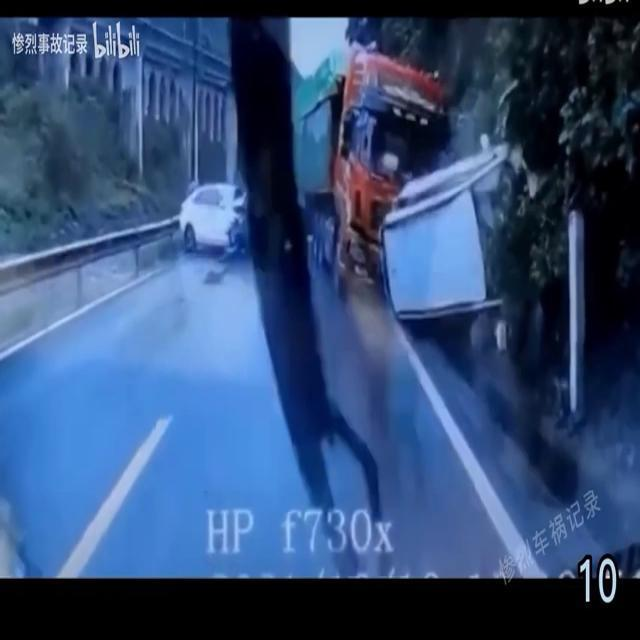accident: (306, 53, 540, 317), (178, 185, 246, 255)
